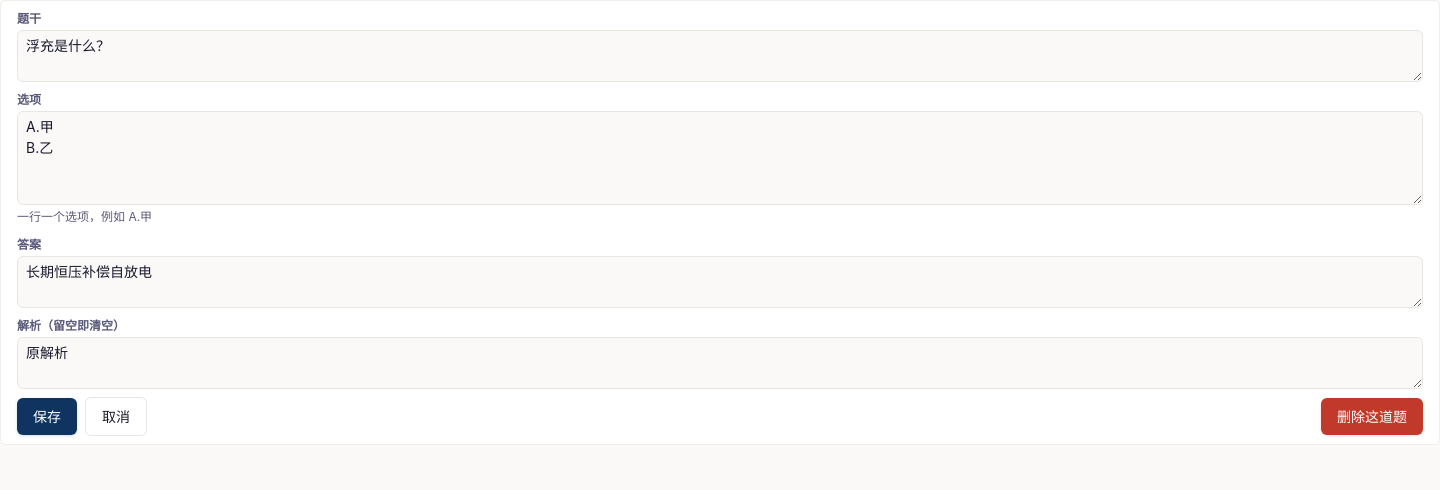
Test case: 保存 › 题干为空时不发请求，并提示
Clear the text box labelled "题干" at coordinates (720, 56), box 17,30 -> 1423,82
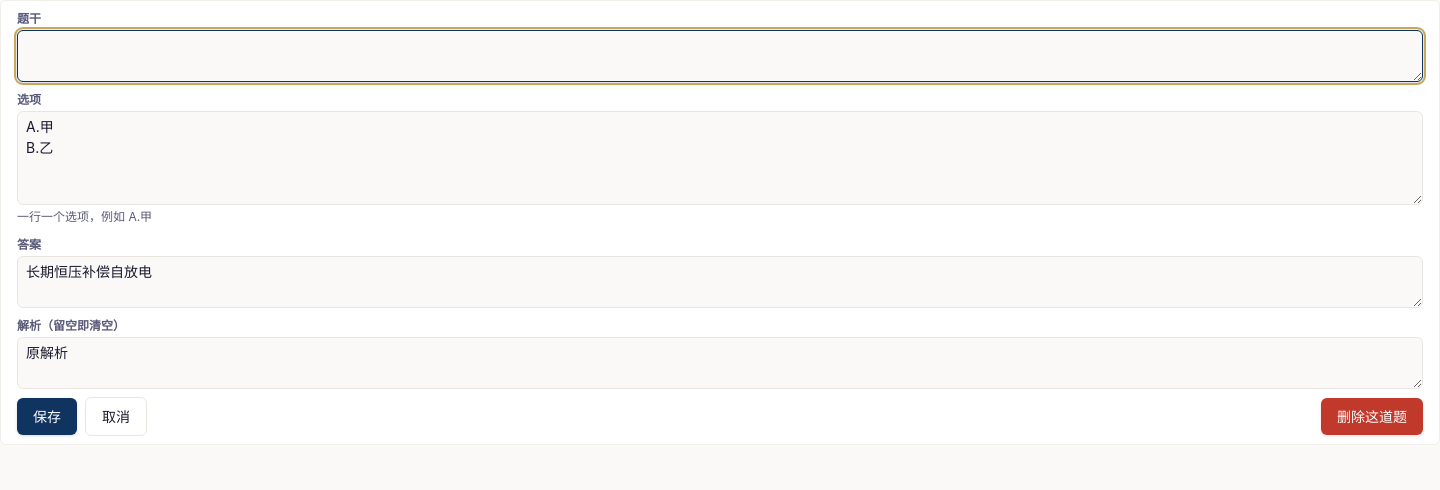
Click the button "保存" at coordinates (47, 416), box 17,398 -> 77,435
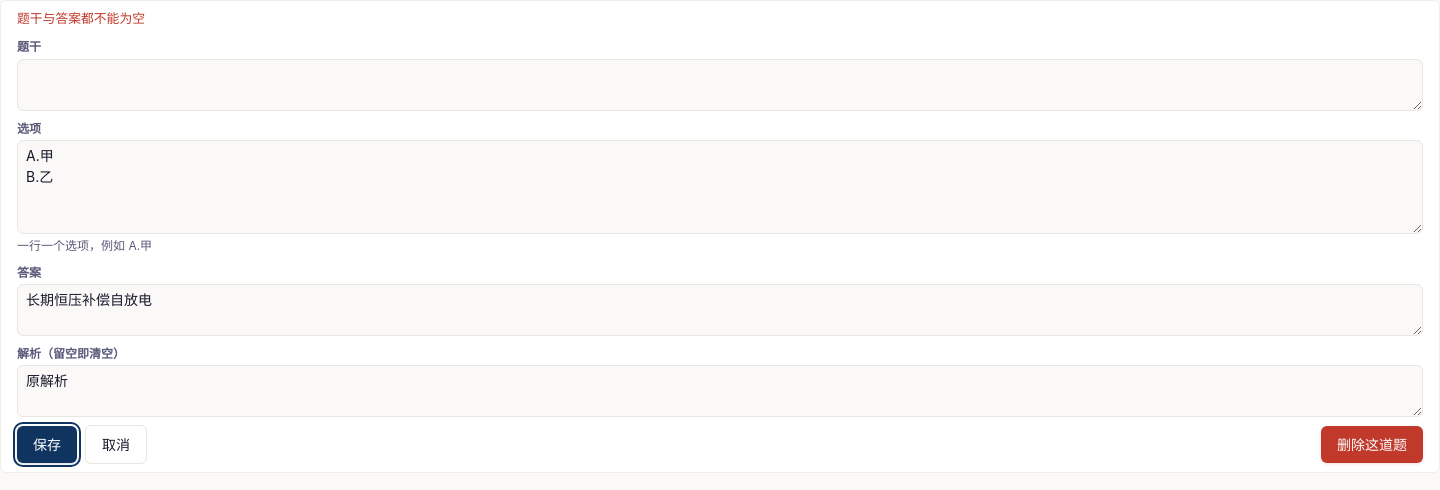
Check: the message reads "题干与答案都不能为空", box 17,11 -> 145,26
